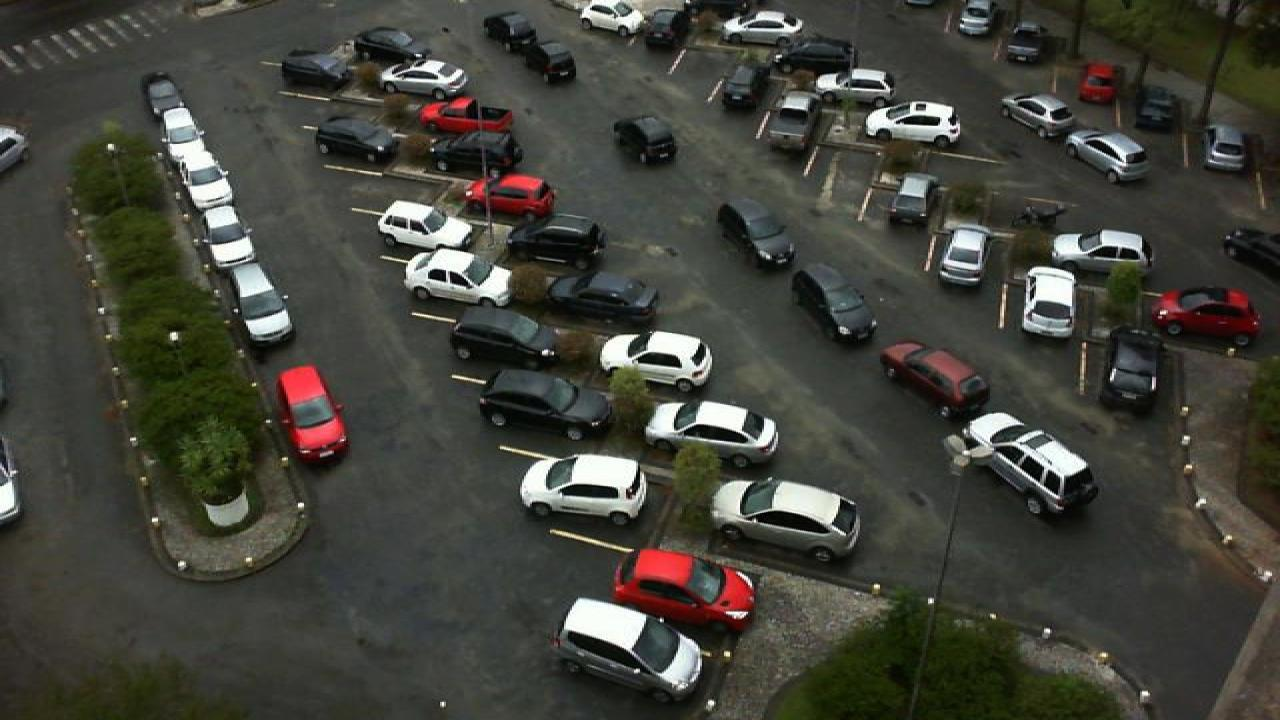Car: (552, 598, 706, 704), (960, 411, 1102, 516), (708, 477, 862, 563), (614, 548, 758, 636), (476, 367, 614, 442), (642, 399, 780, 469), (516, 454, 648, 526), (878, 340, 992, 417), (446, 304, 564, 376), (276, 364, 350, 463), (596, 330, 714, 392), (790, 264, 878, 346), (548, 265, 662, 323), (222, 261, 296, 348), (402, 249, 514, 306), (1150, 286, 1262, 342), (716, 197, 798, 271), (374, 198, 476, 254), (1098, 328, 1162, 417), (506, 214, 608, 266), (1054, 230, 1152, 282), (428, 128, 524, 178), (862, 100, 964, 146), (1068, 130, 1152, 185), (418, 94, 516, 138), (1020, 266, 1078, 340), (468, 174, 558, 221), (314, 115, 398, 164), (380, 58, 468, 102), (200, 206, 260, 268), (1000, 94, 1080, 140), (776, 34, 856, 78), (278, 48, 356, 93), (178, 151, 238, 209), (814, 69, 900, 109), (612, 114, 678, 166), (938, 224, 992, 287), (158, 104, 212, 166), (764, 91, 818, 150), (888, 172, 940, 231), (352, 25, 432, 63), (722, 9, 804, 43), (572, 0, 648, 36), (1200, 122, 1252, 174), (522, 40, 578, 84), (722, 63, 772, 111), (482, 11, 536, 54), (144, 73, 190, 123), (1132, 86, 1182, 132), (1076, 61, 1122, 108), (642, 9, 688, 53), (1002, 22, 1046, 66), (958, 0, 996, 37)
